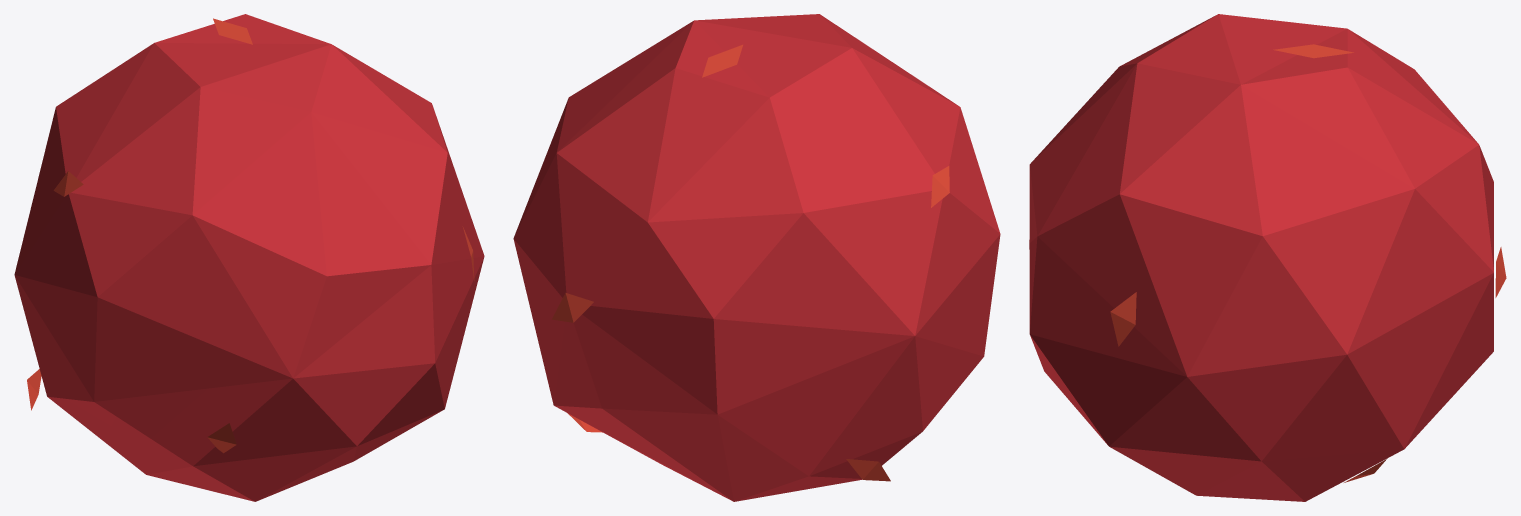
Rendered from shrub-round-leaves_red.glb.
3 views of the same model, side by side, from view 1: azimuth 30°, elevation 25°; view 2: azimuth 150°, elevation 25°; view 3: azimuth 270°, elevation 25° (orthographic). The views are drawn at different scales.
Visible parts, largest first — view 1: shrub-round-leaves_red; view 2: shrub-round-leaves_red; view 3: shrub-round-leaves_red.
Part boxes in pixels (box(x1,y1,x2,y2)): shrub-round-leaves_red: box(14, 14, 484, 501); shrub-round-leaves_red: box(513, 14, 1000, 501); shrub-round-leaves_red: box(1029, 14, 1506, 501).
Size of the model in its own units: 1.46 by 1.47 by 1.51.
1 material, 1 textured.
